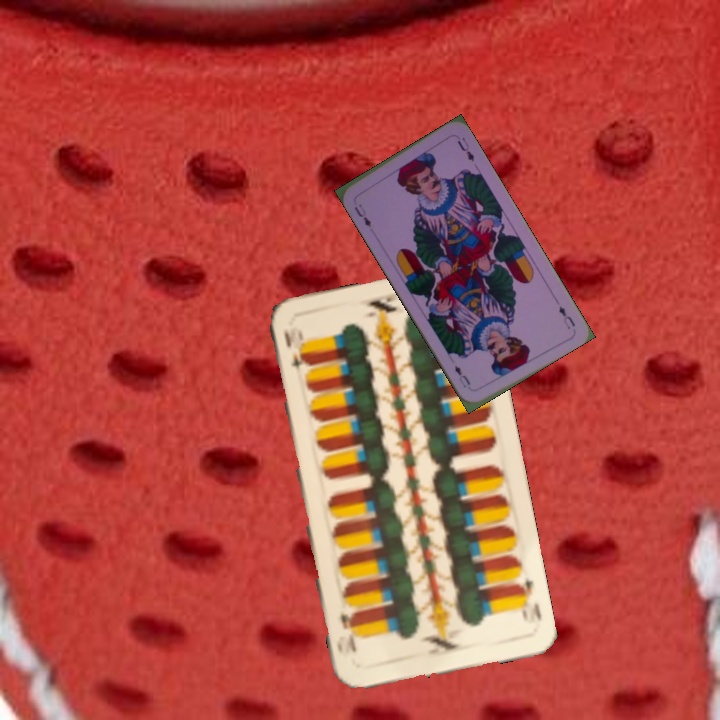E10: (512, 573, 544, 626), (279, 325, 308, 380)
EU: (350, 200, 374, 230), (555, 301, 578, 332)
